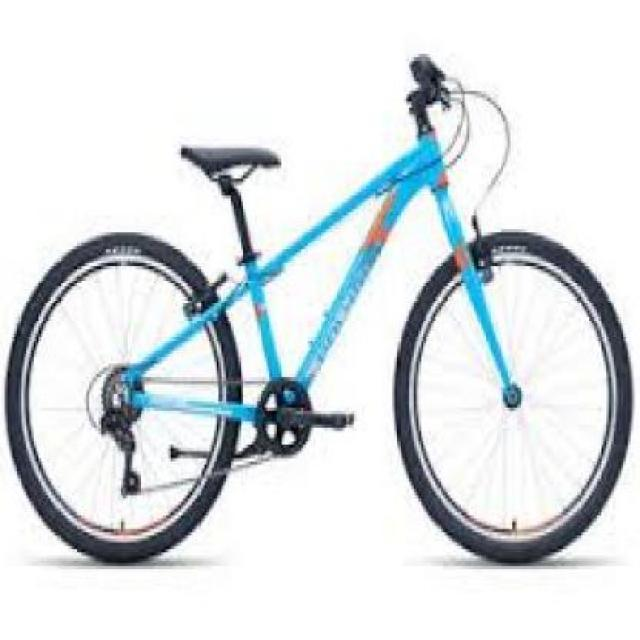bicycle: (6, 62, 640, 570)
